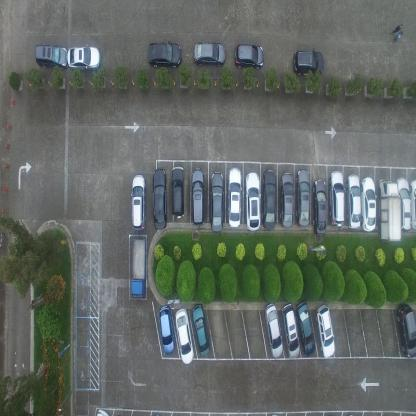car: (379, 177, 402, 241), (296, 299, 316, 356), (264, 301, 283, 360), (175, 308, 194, 366), (396, 303, 416, 358), (316, 302, 335, 359), (147, 40, 182, 69), (226, 165, 242, 228), (281, 302, 299, 358), (192, 303, 211, 356), (151, 168, 167, 230), (130, 236, 146, 298), (292, 47, 324, 77), (193, 39, 226, 68), (34, 42, 68, 70), (244, 171, 260, 230), (295, 167, 311, 226), (130, 174, 146, 232), (190, 167, 205, 228), (346, 172, 362, 229), (395, 176, 411, 232), (361, 176, 377, 232), (67, 44, 101, 70), (329, 169, 344, 227), (234, 41, 264, 70), (210, 170, 224, 232), (261, 168, 275, 228), (158, 305, 174, 356), (313, 178, 327, 236), (280, 171, 294, 228), (171, 165, 184, 220), (410, 177, 416, 231)
